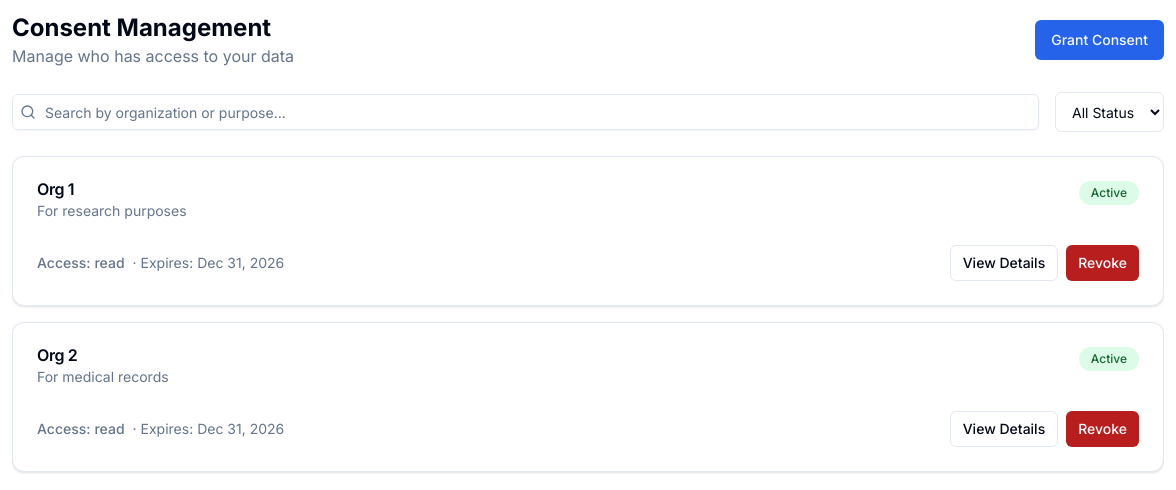
Test: ConsentList › Search & Filter › filters consents by purpose text
The image size is (1176, 490).
Type "research" into the field with placeholder "Search by organization or purpose...". click: (526, 112)
box: [12,94,1039,130]
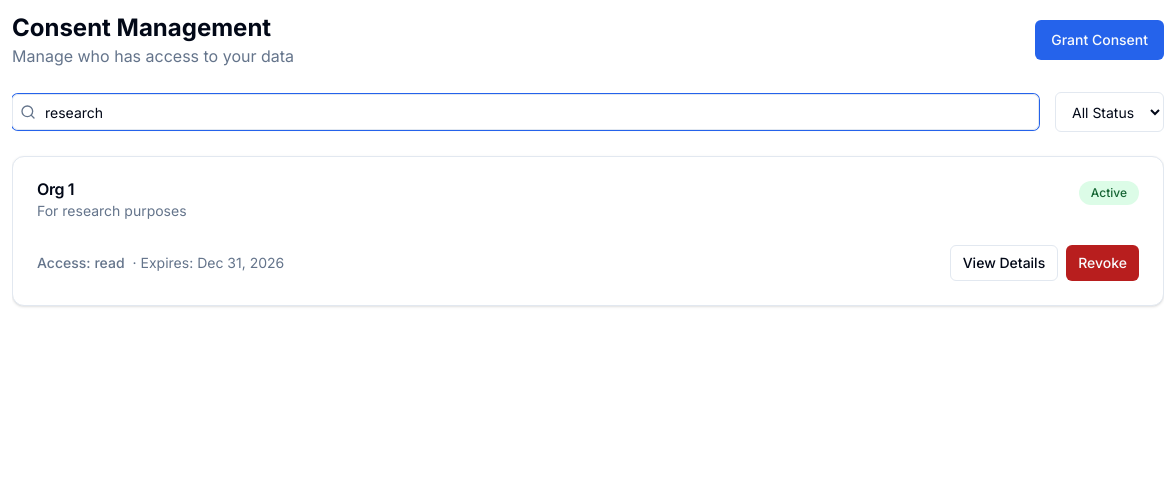
Expected: the heading "Org 1" is shown, [37,179,74,199]
Now the heading "Org 2" is gone
